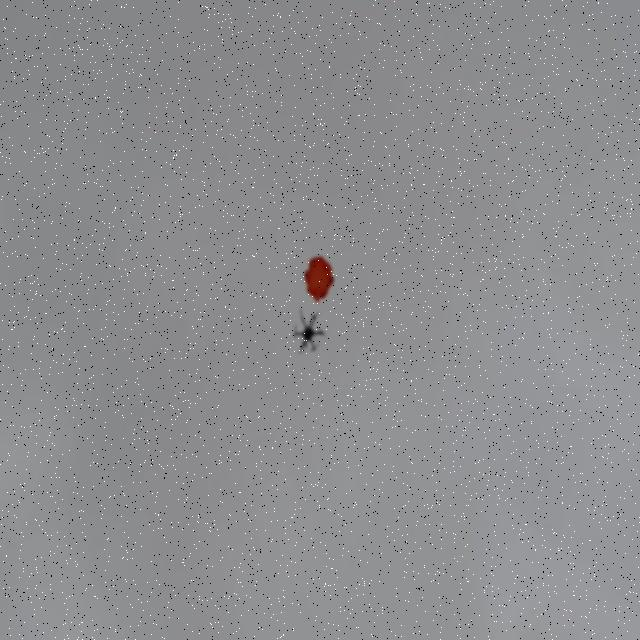UAV: (294, 308, 326, 354)
